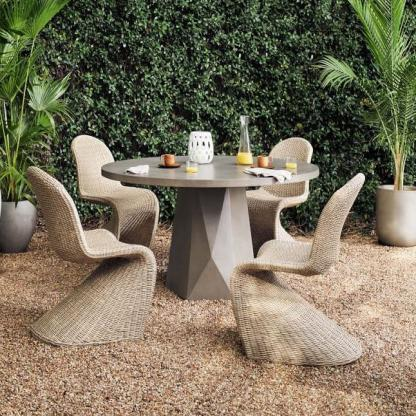table: (96, 148, 321, 304)
